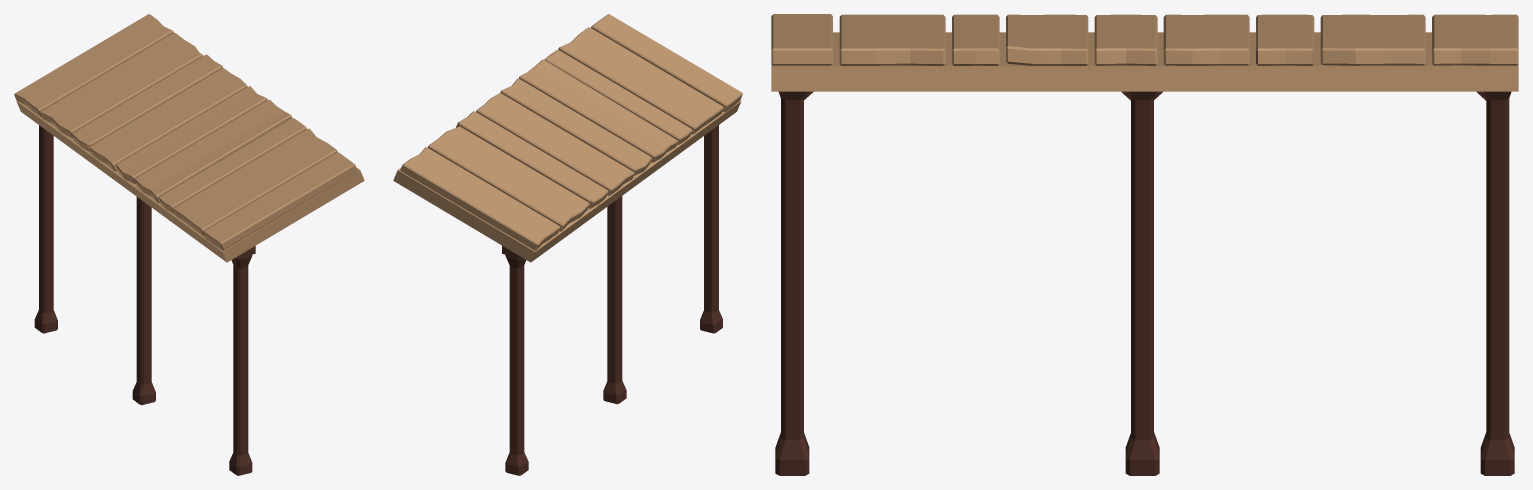
Rendered from balcony-b.glb.
3 views of the same model, side by side, from view 1: azimuth 30°, elevation 25°; view 2: azimuth 150°, elevation 25°; view 3: azimuth 270°, elevation 25° (orthographic). The views are drawn at different scales.
Parts seen in each view (by area): view 1: Balcony B (×2); view 2: Balcony B (×2); view 3: Balcony B (×2).
Boxes of the visible parts, x1,y1,x2,y2 form: Balcony B (×2): [14, 14, 364, 475]; Balcony B (×2): [393, 14, 742, 475]; Balcony B (×2): [771, 14, 1518, 475].
Bounding box in the file's own units: 1.34 × 2.53 × 3.3.
